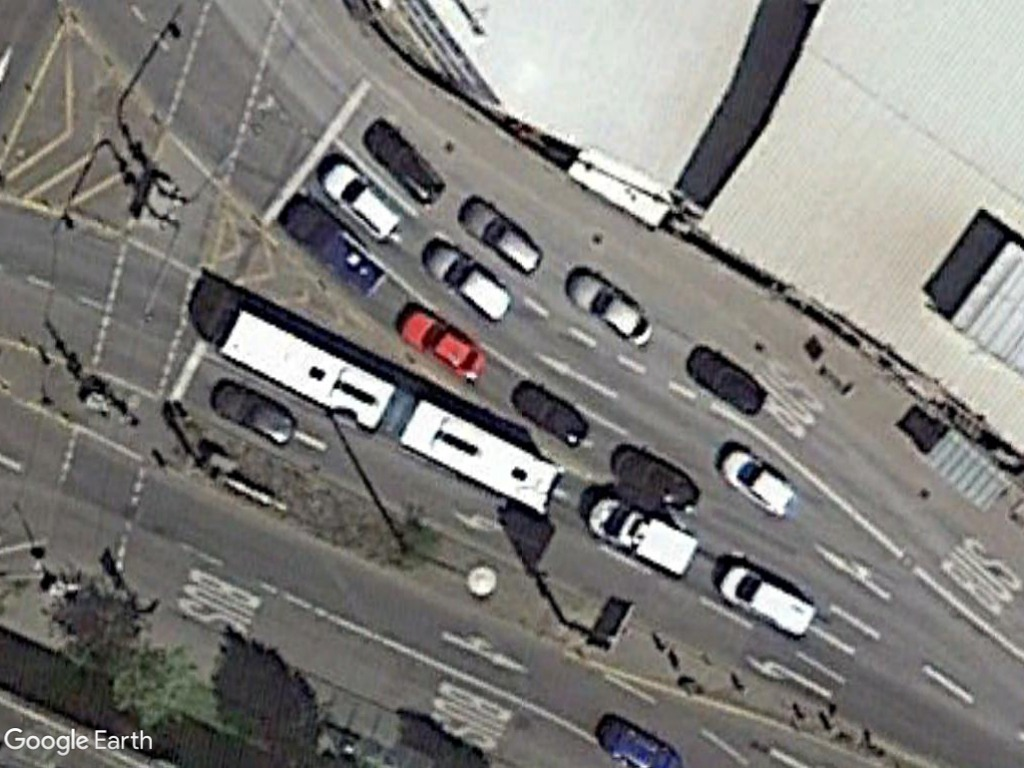bus: (213, 298, 397, 440), (400, 391, 565, 517)
car: (418, 238, 515, 326), (564, 267, 662, 354), (394, 304, 492, 385), (322, 159, 405, 247), (458, 196, 545, 277), (718, 442, 801, 522)
truck: (585, 489, 700, 583)
van: (715, 558, 819, 642)
